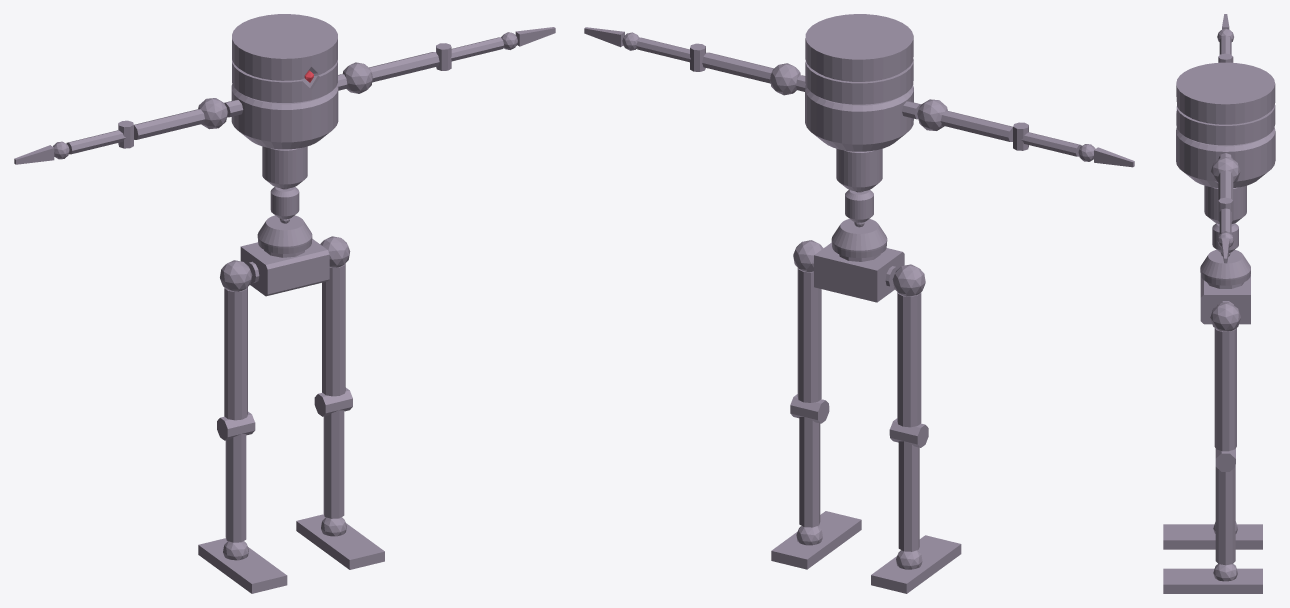
File: cylinder-robot-no-rig.fbx
The picture shows the model from 3 angles, left to right: view 1: azimuth 30°, elevation 25°; view 2: azimuth 150°, elevation 25°; view 3: azimuth 270°, elevation 25°; orthographic projection. The views are drawn at different scales.
Parts seen in each view (by area): view 1: head, spine.03, thigh.R, thigh.L, pelvis, shin.R, shin.L, foot.R, foot.L, upper_hand.R, upper_hand.L, spine.00 (+6 smaller); view 2: head, spine.03, thigh.R, thigh.L, pelvis, shin.R, shin.L, foot.R, foot.L, upper_hand.R, upper_hand.L, spine.00 (+6 smaller); view 3: head, thigh.L, spine.03, foot.L, shin.L, foot.R, pelvis, spine.00, spine.02, upper_hand.L, forearm.L, spine.01 (+3 smaller).
Part boxes in pixels (<box>): head: <box>232,14,337,102</box>; spine.03: <box>224,74,347,149</box>; thigh.R: <box>220,260,252,420</box>; thigh.L: <box>320,236,350,396</box>; pelvis: <box>240,239,329,296</box>; shin.R: <box>217,411,255,542</box>; shin.L: <box>314,387,352,518</box>; foot.R: <box>198,538,287,593</box>; foot.L: <box>296,514,384,569</box>; upper_hand.R: <box>134,98,227,139</box>; upper_hand.L: <box>342,52,439,93</box>; spine.00: <box>257,215,312,253</box>; head: <box>805,14,913,104</box>; spine.03: <box>796,75,920,151</box>; thigh.R: <box>892,264,925,427</box>; thigh.L: <box>793,240,823,402</box>; pelvis: <box>814,243,904,302</box>; shin.R: <box>889,418,928,551</box>; shin.L: <box>790,394,829,527</box>; foot.R: <box>871,535,961,593</box>; foot.L: <box>771,511,861,569</box>; upper_hand.R: <box>917,99,1012,141</box>; upper_hand.L: <box>702,52,800,95</box>; spine.00: <box>831,219,887,257</box>; head: <box>1176,62,1275,145</box>; thigh.L: <box>1210,303,1240,451</box>; spine.03: <box>1176,127,1275,187</box>; foot.L: <box>1163,564,1262,593</box>; shin.L: <box>1215,448,1235,565</box>; foot.R: <box>1163,521,1262,549</box>; pelvis: <box>1200,274,1250,324</box>; spine.00: <box>1200,250,1250,285</box>; spine.02: <box>1204,185,1246,223</box>; upper_hand.L: <box>1211,157,1240,200</box>; forearm.L: <box>1218,197,1233,234</box>; spine.01: <box>1212,223,1238,252</box>.
Bounding box in the file's own units: 1163 × 1064 × 225.
1 material, 1 textured.
